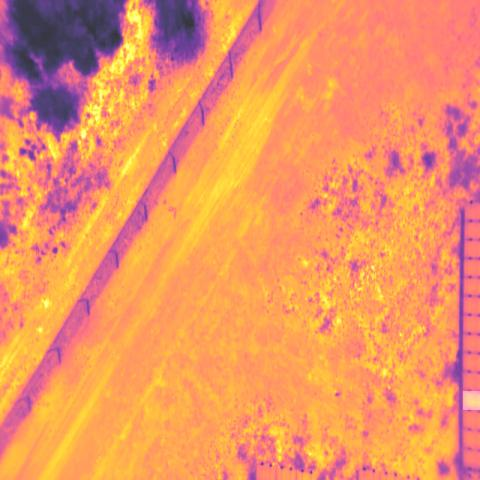fault: (463, 391, 480, 410)
